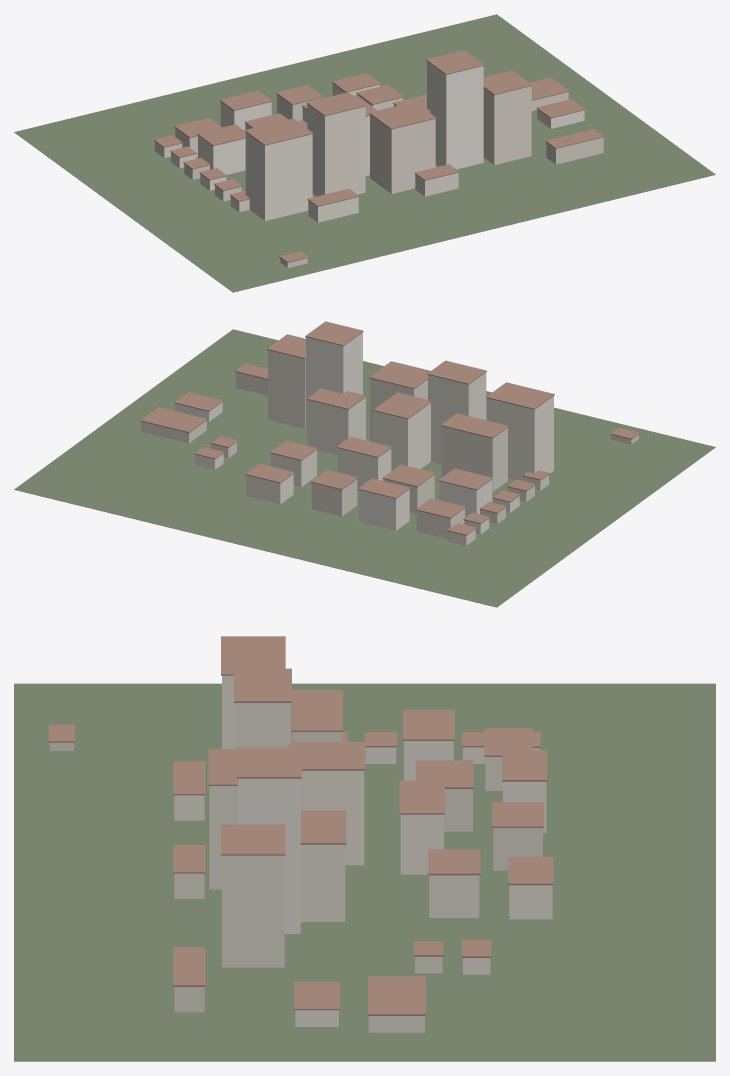
File: city_block.glb
The picture shows the model from 3 angles, top to bottom: view 1: azimuth 30°, elevation 25°; view 2: azimuth 150°, elevation 25°; view 3: azimuth 270°, elevation 25°; orthographic projection. The views are drawn at different scales.
Visible parts, largest first — view 1: WEBEXP_GROUND, WEBEXP_BLDG-004_SHELL, WEBEXP_BLDG-001_SHELL, WEBEXP_BLDG-002_SHELL, WEBEXP_BLDG-003_SHELL, WEBEXP_BLDG-008_SHELL, WEBEXP_BLDG-009_SHELL, WEBEXP_BLDG-003_ROOF, WEBEXP_BLDG-001_ROOF, WEBEXP_BLDG-025_SHELL, WEBEXP_BLDG-014_SHELL, WEBEXP_BLDG-004_ROOF (+16 smaller); view 2: WEBEXP_GROUND, WEBEXP_BLDG-001_SHELL, WEBEXP_BLDG-004_SHELL, WEBEXP_BLDG-005_SHELL, WEBEXP_BLDG-002_SHELL, WEBEXP_BLDG-006_SHELL, WEBEXP_BLDG-008_SHELL, WEBEXP_BLDG-007_SHELL, WEBEXP_BLDG-014_SHELL, WEBEXP_BLDG-011_SHELL, WEBEXP_BLDG-015_SHELL, WEBEXP_BLDG-009_SHELL (+25 smaller); view 3: WEBEXP_GROUND, WEBEXP_BLDG-008_SHELL, WEBEXP_BLDG-004_SHELL, WEBEXP_BLDG-006_SHELL, WEBEXP_BLDG-007_SHELL, WEBEXP_BLDG-002_SHELL, WEBEXP_BLDG-028_ROOF, WEBEXP_BLDG-011_SHELL, WEBEXP_BLDG-001_ROOF, WEBEXP_BLDG-012_SHELL, WEBEXP_BLDG-005_ROOF, WEBEXP_BLDG-004_ROOF (+29 smaller).
Part boxes in pixels (x1,y1,x2,y2): WEBEXP_GROUND: (14,14,715,292); WEBEXP_BLDG-004_SHELL: (427,61,483,169); WEBEXP_BLDG-001_SHELL: (245,132,312,220); WEBEXP_BLDG-002_SHELL: (307,104,365,196); WEBEXP_BLDG-003_SHELL: (370,114,435,193); WEBEXP_BLDG-008_SHELL: (483,86,531,164); WEBEXP_BLDG-009_SHELL: (198,135,245,174); WEBEXP_BLDG-003_ROOF: (369,101,436,129); WEBEXP_BLDG-001_ROOF: (244,118,313,145); WEBEXP_BLDG-025_SHELL: (546,137,603,164); WEBEXP_BLDG-014_SHELL: (220,101,271,130); WEBEXP_BLDG-004_ROOF: (426,50,484,74); WEBEXP_GROUND: (14,329,715,607); WEBEXP_BLDG-001_SHELL: (487,396,553,480); WEBEXP_BLDG-004_SHELL: (306,332,362,434); WEBEXP_BLDG-005_SHELL: (441,426,507,491); WEBEXP_BLDG-002_SHELL: (428,372,486,464); WEBEXP_BLDG-006_SHELL: (374,403,430,470); WEBEXP_BLDG-008_SHELL: (268,350,305,428); WEBEXP_BLDG-007_SHELL: (307,397,365,455); WEBEXP_BLDG-014_SHELL: (358,489,409,530); WEBEXP_BLDG-011_SHELL: (337,448,391,490); WEBEXP_BLDG-015_SHELL: (311,479,357,516); WEBEXP_BLDG-009_SHELL: (439,479,492,517); WEBEXP_GROUND: (14,683,715,1061); WEBEXP_BLDG-008_SHELL: (222,855,284,967); WEBEXP_BLDG-004_SHELL: (238,778,300,933); WEBEXP_BLDG-006_SHELL: (300,770,364,865); WEBEXP_BLDG-007_SHELL: (300,844,345,921); WEBEXP_BLDG-002_SHELL: (234,703,290,749); WEBEXP_BLDG-028_ROOF: (368,976,425,1015); WEBEXP_BLDG-011_SHELL: (400,814,443,874); WEBEXP_BLDG-001_ROOF: (221,636,285,675); WEBEXP_BLDG-012_SHELL: (429,875,479,917); WEBEXP_BLDG-005_ROOF: (291,690,342,731); WEBEXP_BLDG-004_ROOF: (237,747,301,778).
Size of the model in its own units: 280 by 54.62 by 220.
